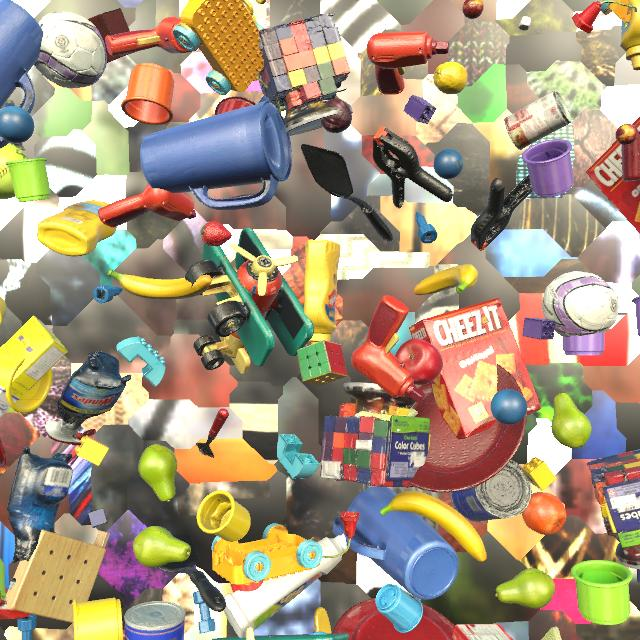ycb_002_master_chef_can: (450, 460, 532, 522), (124, 601, 186, 640)
ycb_003_cracker_box: (409, 298, 541, 439), (586, 117, 640, 233)
ycb_004_sugar_box: (0, 315, 68, 418)
ycb_005_tomato_soup_can: (504, 91, 572, 150)
ycb_006_mustard_bottle: (37, 200, 117, 256), (304, 240, 341, 345), (620, 0, 640, 70)
ycb_009_gelatin_box: (452, 624, 513, 640)
ycb_010_potted_meat_can: (0, 100, 25, 151)
ycb_011_banana: (380, 491, 487, 562), (108, 269, 212, 300), (414, 264, 478, 295)
ycb_012_strawberry: (200, 221, 232, 246)
ycb_013_apple: (395, 338, 443, 385)
ycb_014_lemon: (433, 62, 468, 95)
ycb_016_pear: (495, 568, 555, 609), (133, 526, 191, 568), (551, 393, 592, 449), (138, 444, 177, 502)
ycb_017_orange: (522, 492, 566, 535)
ycb_018_plum: (321, 99, 352, 133)
